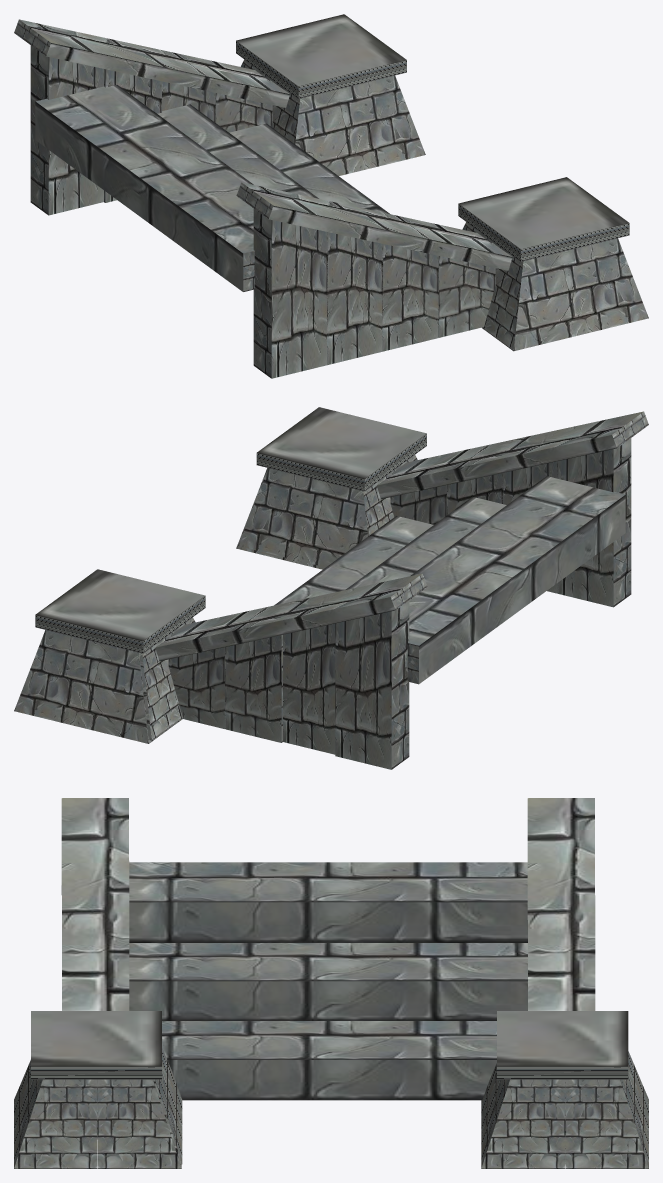
The model's file is Stairup start low pillar.fbx.
3 renders of one model, top to bottom at view 1: azimuth 30°, elevation 25°; view 2: azimuth 150°, elevation 25°; view 3: azimuth 270°, elevation 25°, orthographic. The views are drawn at different scales.
Parts seen in each view (by area): view 1: Cube.001; view 2: Cube.001; view 3: Cube.001.
Part boxes in pixels (x1,y1,x2,y2): Cube.001: [14, 14, 648, 378]; Cube.001: [14, 407, 648, 769]; Cube.001: [14, 798, 648, 1168].
Bounding box in the file's own units: 3.14 × 1.52 × 4.6.
4 materials, 4 textured.
